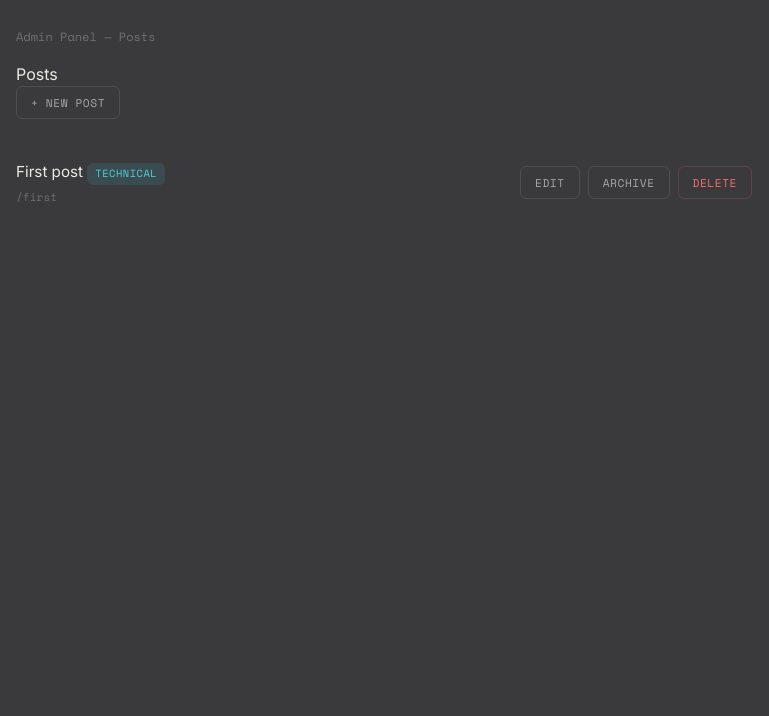
Test: extracted admin routes and forms › keeps existing post editing and markdown conversion
Click the button "EDIT". click: (550, 182)
box: top-left (520, 166), bottom-right (580, 199)
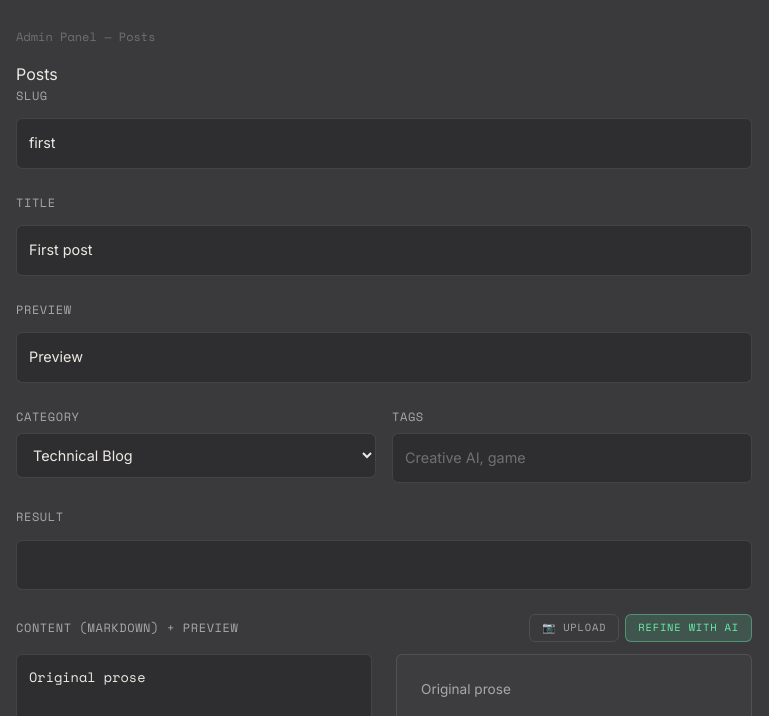
expect the field labelled "Title" holds "First post": met
Replace the text in the field labelled "Title" with "Updated title". click: (384, 250)
box: top-left (16, 225), bottom-right (752, 276)
(page scrolled)
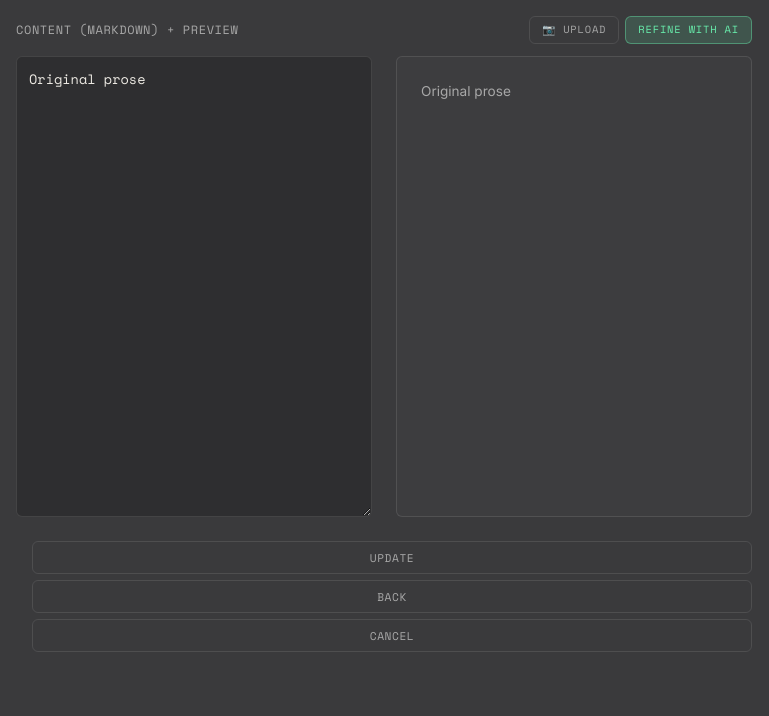
Click the button "UPDATE". click: (392, 557)
box: top-left (32, 541), bottom-right (752, 574)
(page scrolled)
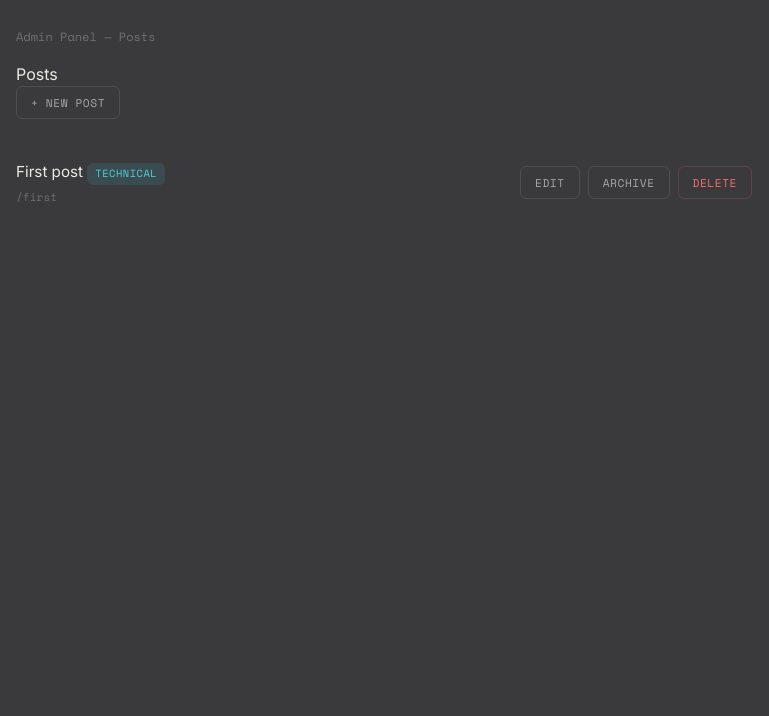
expect the button "+ NEW POST" is shown: met, box top-left (16, 86), bottom-right (120, 119)
